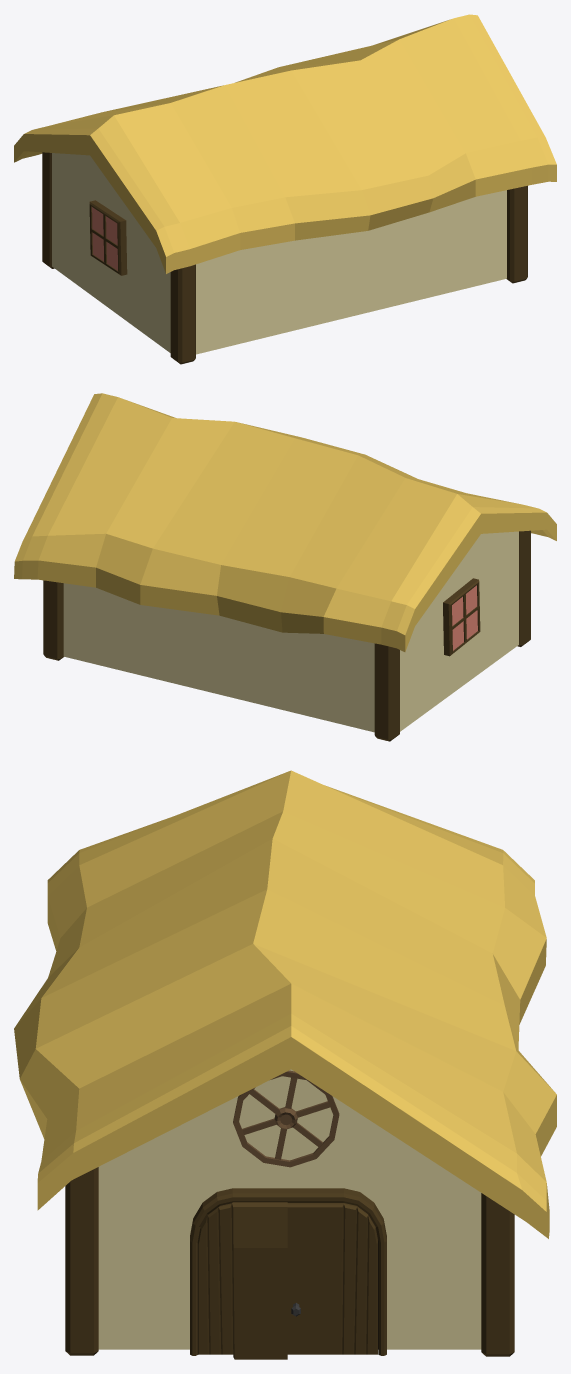
Rendered from SM_House_Farm_04.fbx.
3 renders of one model, top to bottom at view 1: azimuth 30°, elevation 25°; view 2: azimuth 150°, elevation 25°; view 3: azimuth 270°, elevation 25°, orthographic. The views are drawn at different scales.
Parts seen in each view (by area): view 1: Dach.002, House Body.002, Wood Beam.010, Wood Beam.008, Window.013, Wood Beam.011, Window Glass.013; view 2: Dach.002, House Body.002, Wood Beam.011, Wood Beam.009, Wood Beam.010, Window.013, Window Glass.013; view 3: Dach.002, House Body.002, Door.004, Wood Beam.008, Doorframe.004, Wood Beam.009, SM_Cart.002.
Part boxes in pixels (x1=…): Dach.002: x1=14, y1=14, x2=556, y2=273; House Body.002: x1=52, y1=153, x2=506, y2=354; Wood Beam.010: x1=170, y1=264, x2=195, y2=364; Wood Beam.008: x1=506, y1=185, x2=527, y2=283; Window.013: x1=89, y1=200, x2=127, y2=275; Wood Beam.011: x1=42, y1=152, x2=54, y2=268; Window Glass.013: x1=92, y1=207, x2=117, y2=270; Dach.002: x1=14, y1=393, x2=556, y2=651; House Body.002: x1=63, y1=531, x2=518, y2=732; Wood Beam.011: x1=374, y1=643, x2=399, y2=741; Wood Beam.009: x1=43, y1=580, x2=63, y2=660; Wood Beam.010: x1=517, y1=530, x2=530, y2=646; Window.013: x1=443, y1=578, x2=480, y2=656; Window Glass.013: x1=452, y1=585, x2=477, y2=650; Dach.002: x1=14, y1=770, x2=556, y2=1238; House Body.002: x1=98, y1=1069, x2=481, y2=1349; Door.004: x1=197, y1=1202, x2=377, y2=1359; Wood Beam.008: x1=65, y1=1167, x2=98, y2=1355; Doorframe.004: x1=190, y1=1188, x2=386, y2=1355; Wood Beam.009: x1=481, y1=1193, x2=514, y2=1356; SM_Cart.002: x1=233, y1=1070, x2=339, y2=1167.
Size of the model in its own units: 679 by 355 by 514.
